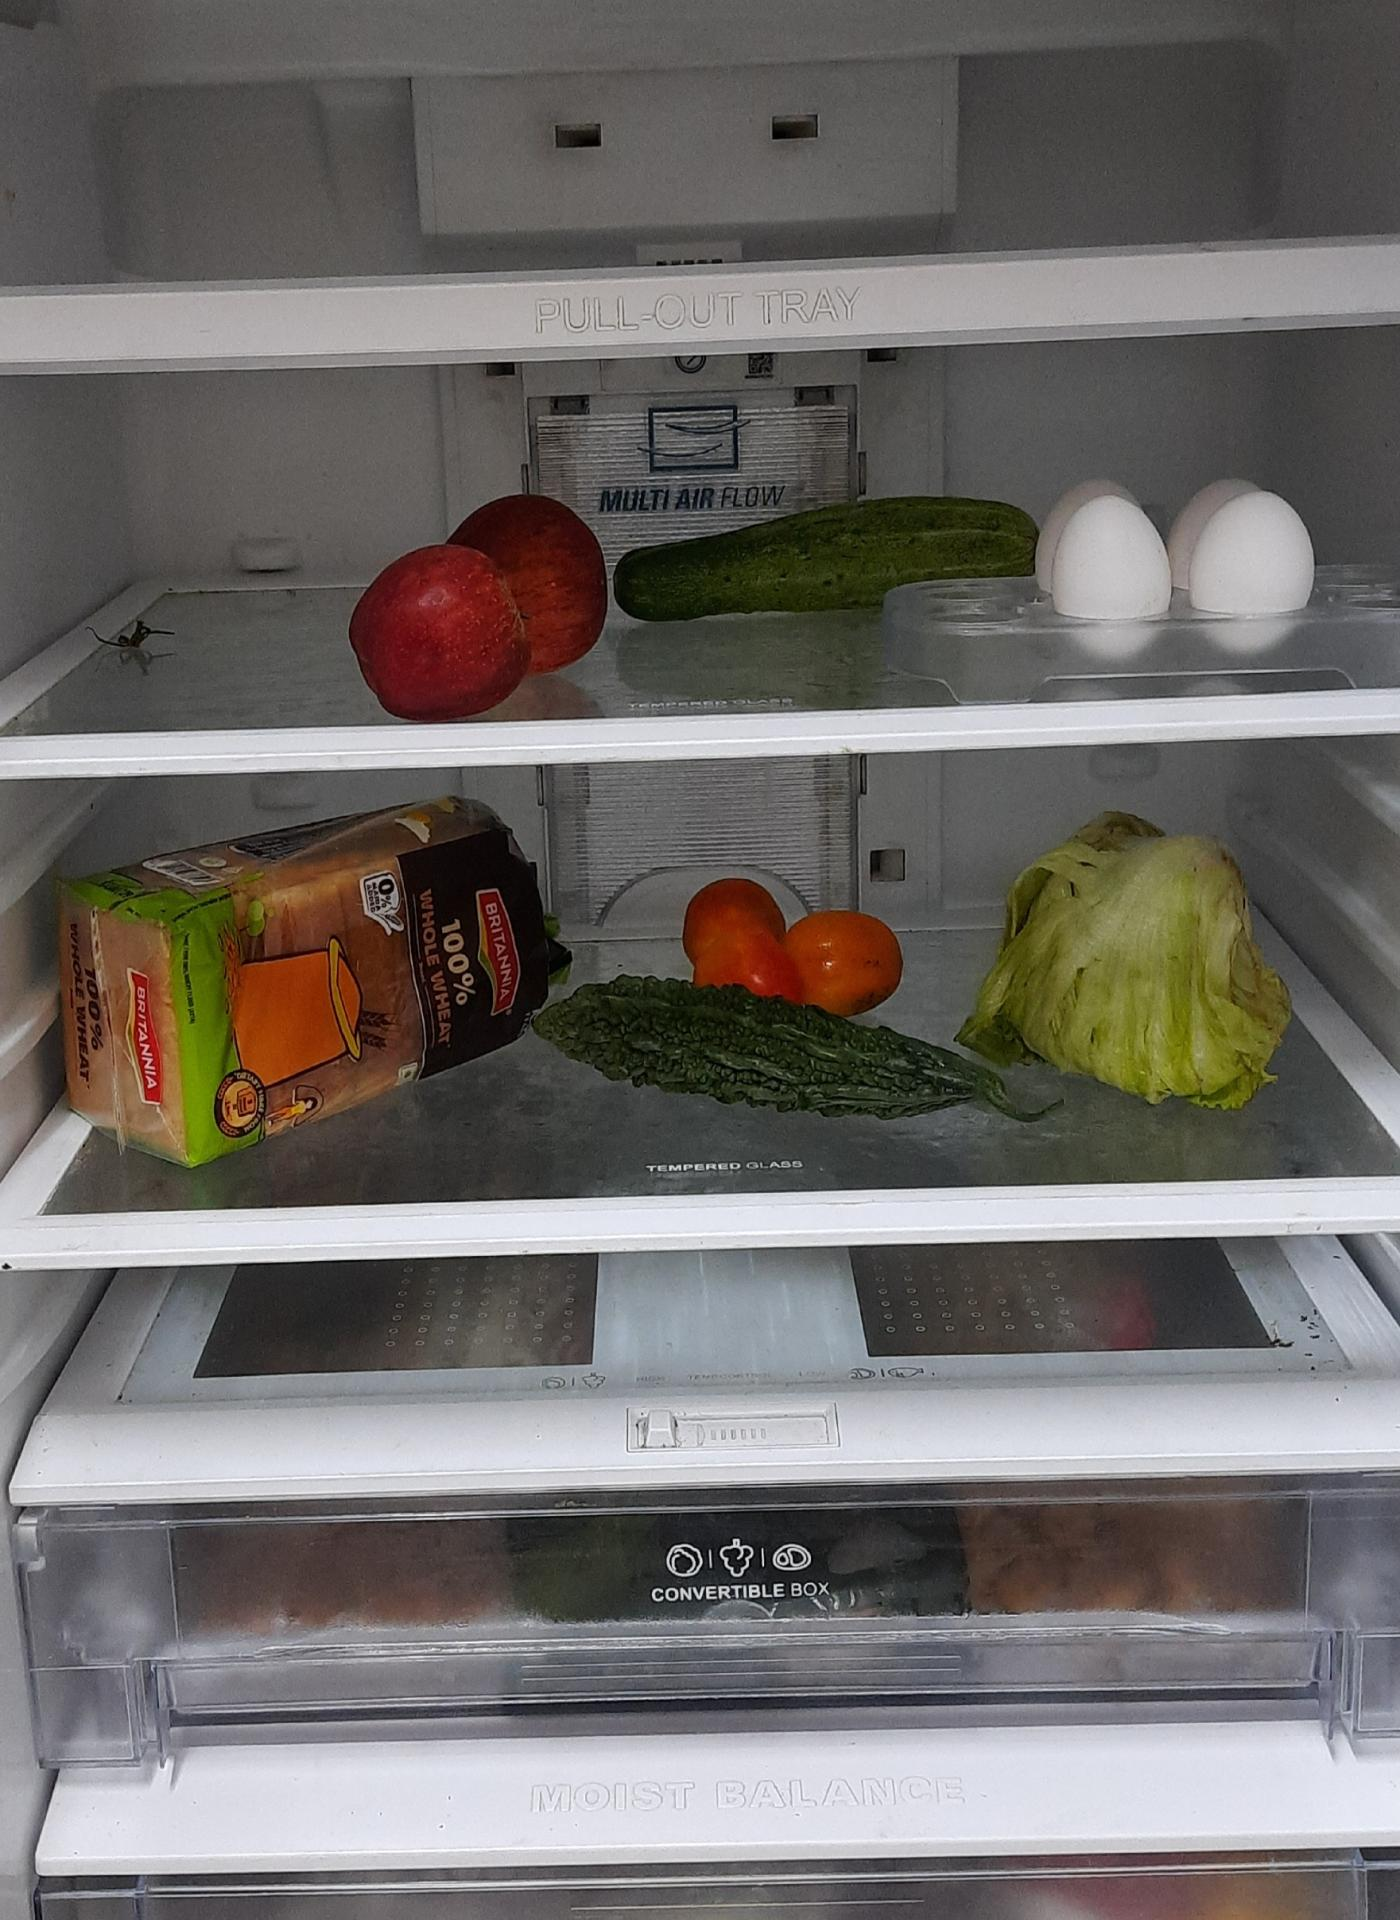apple: (349, 495, 614, 723)
bitter gourd: (532, 973, 1023, 1131)
bread: (54, 795, 574, 1182)
cucumber: (605, 505, 1047, 632)
egg: (1044, 474, 1327, 656)
lettuce: (956, 814, 1287, 1108)
tomato: (684, 875, 909, 1003)
